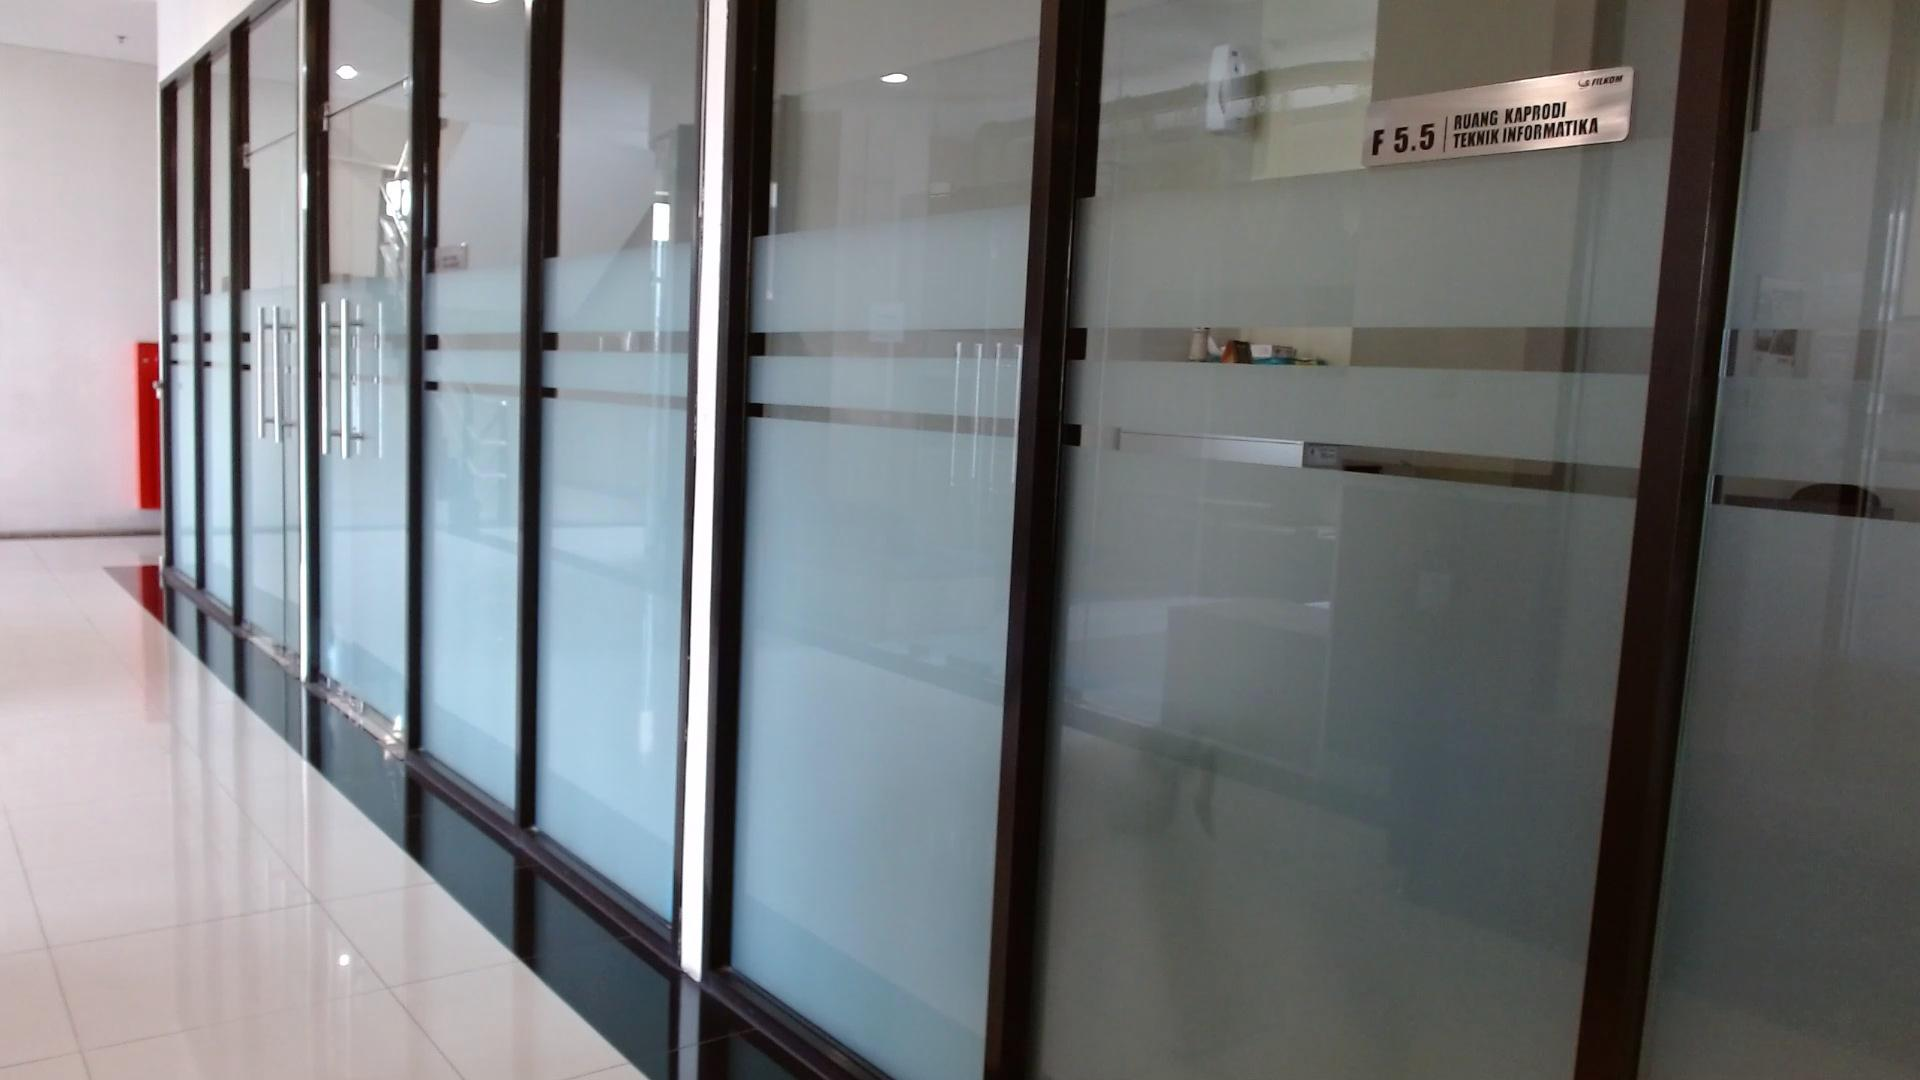plate: (1361, 66, 1635, 169)
